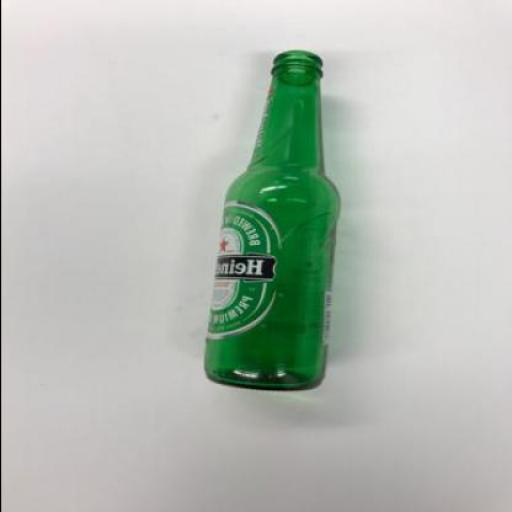glass: (198, 49, 336, 390)
